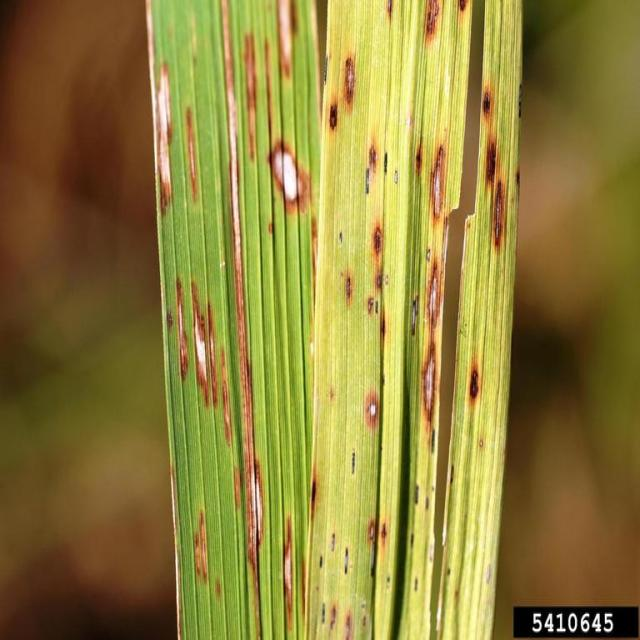Leaf blast: (147, 0, 523, 640)
